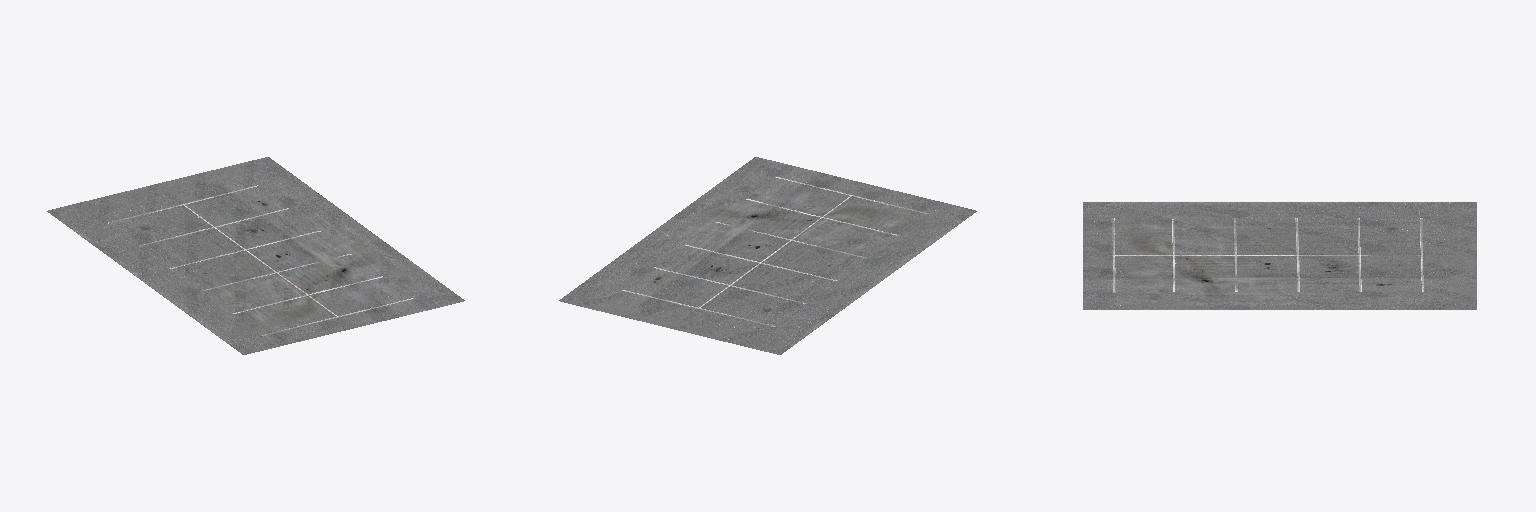
3 views of the same model, side by side, from view 1: azimuth 30°, elevation 25°; view 2: azimuth 150°, elevation 25°; view 3: azimuth 270°, elevation 25° (orthographic).
Parts seen in each view (by area): view 1: Plane.001_Plane.004; view 2: Plane.001_Plane.004; view 3: Plane.001_Plane.004.
Part boxes in pixels (left/top/right/bottom): Plane.001_Plane.004: left=47, top=157, right=464, bottom=354; Plane.001_Plane.004: left=559, top=157, right=976, bottom=354; Plane.001_Plane.004: left=1083, top=202, right=1476, bottom=309.
Bounding box in the file's own units: 7.9 × 0 × 12.15.
1 materials, 1 textured.